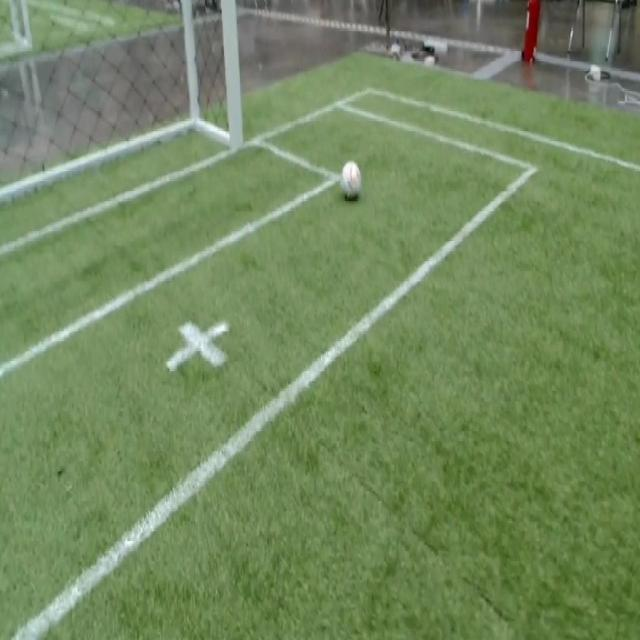ball: (341, 161, 362, 199)
goalpost: (220, 106, 247, 157)
